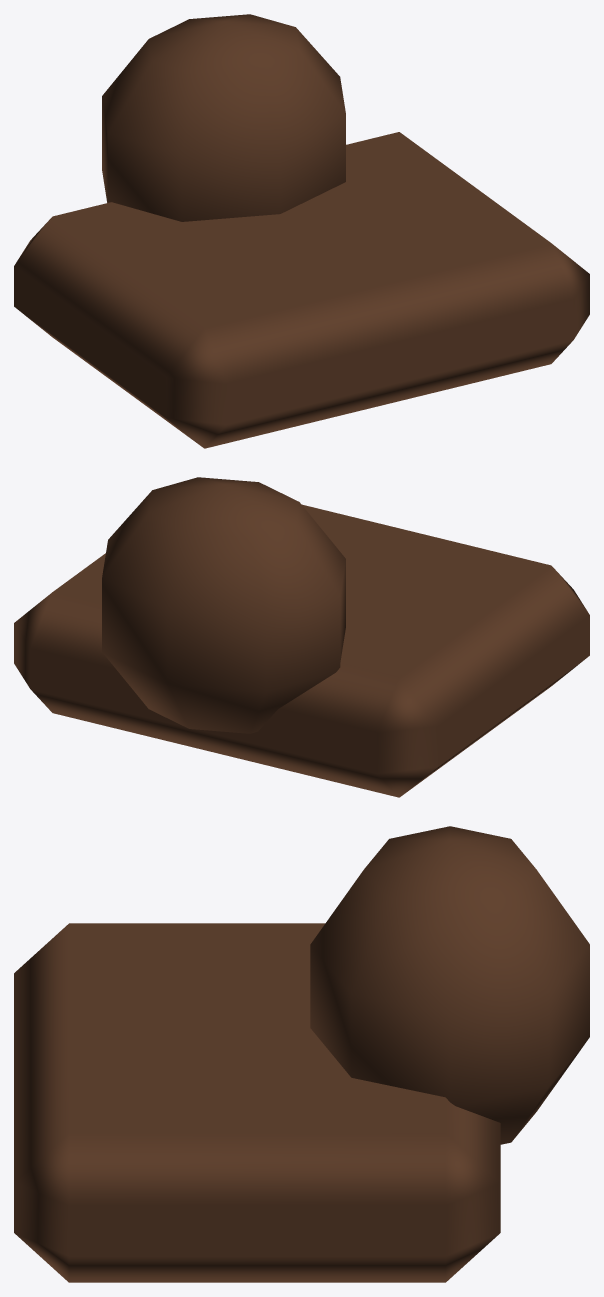
Rendered from CM_Accessory_Hair_Bun.fbx.
3 renders of one model, top to bottom at view 1: azimuth 30°, elevation 25°; view 2: azimuth 150°, elevation 25°; view 3: azimuth 270°, elevation 25°, orthographic. The views are drawn at different scales.
Parts seen in each view (by area): view 1: Handle; view 2: Handle; view 3: Handle.
Part boxes in pixels (bbox=[...]): Handle: bbox=[14, 14, 589, 448]; Handle: bbox=[14, 477, 589, 797]; Handle: bbox=[14, 826, 589, 1282].
Bounding box in the file's own units: 1.32 × 1.25 × 0.81.
1 material, 1 textured.
